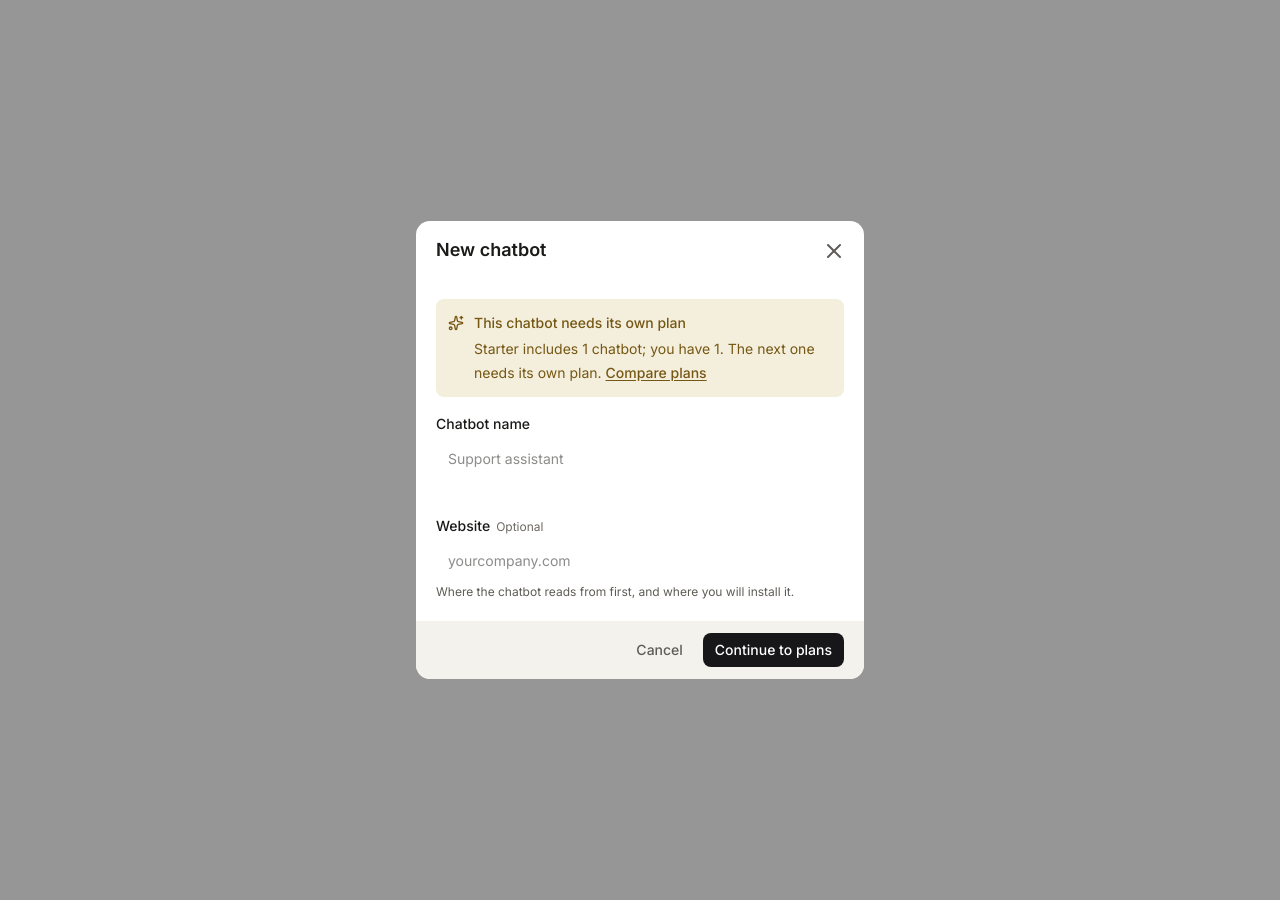
Test: CreateAgentDialog plan filter › hides an unlimited-agents tier whose quota is stored as a string
Type "Second Assistant" into the field labelled "Chatbot name" at [640, 458], box 436,441 -> 844,475
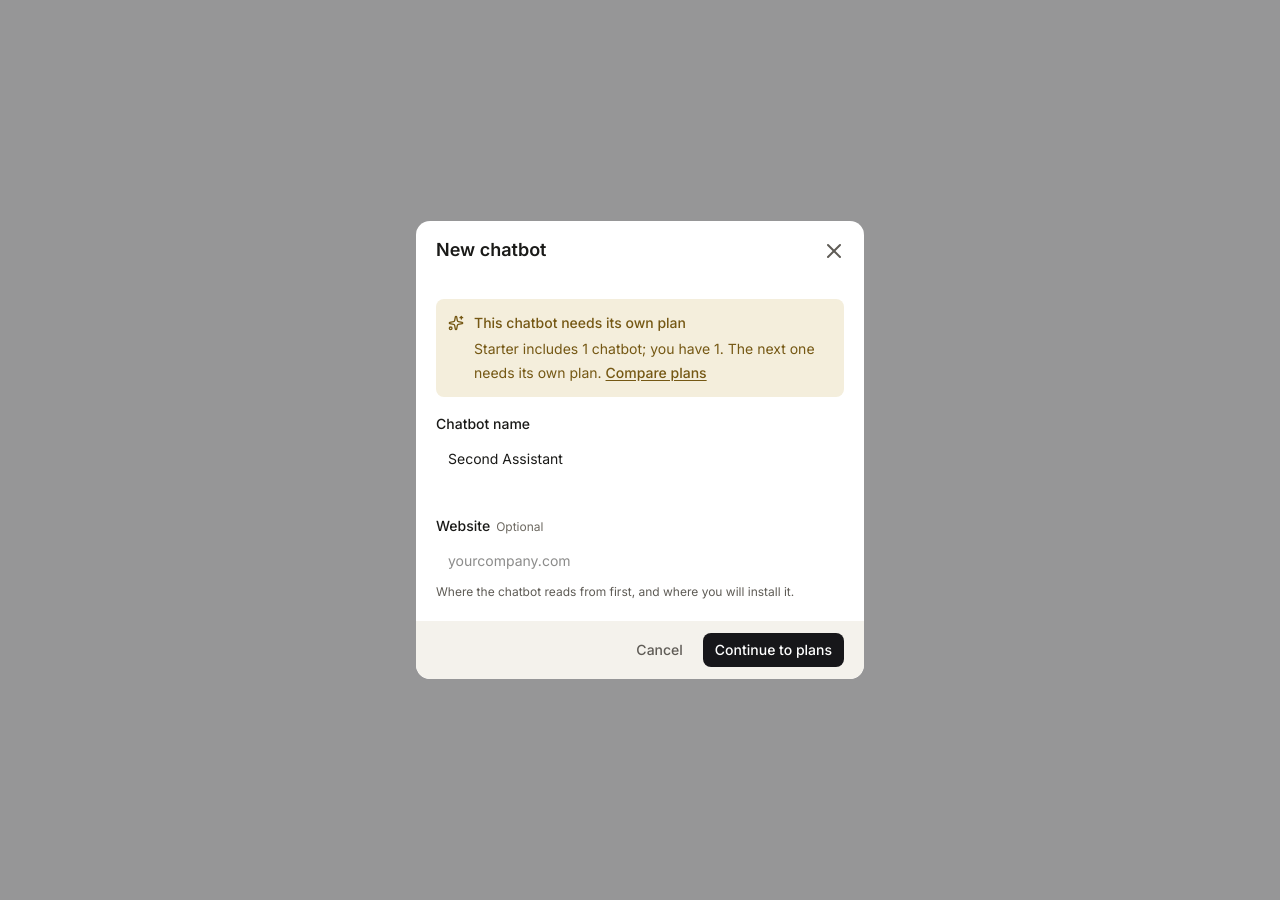
Click the button "Continue to plans" at [773, 650], box 703,633 -> 844,667
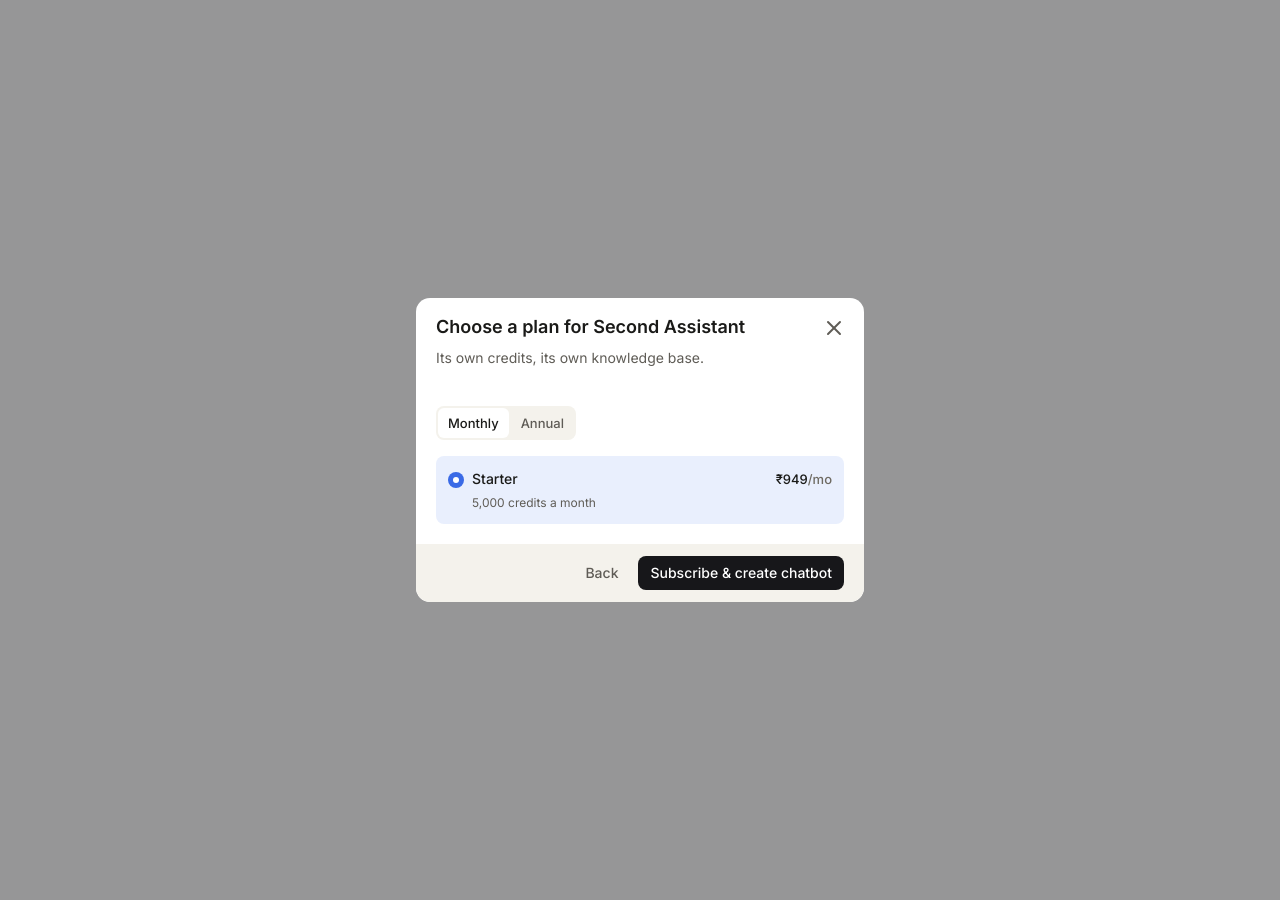
Expected: the text "Starter" is shown, 472,470 -> 518,487
Expected: the element named "Plan" is shown, 436,456 -> 844,524
